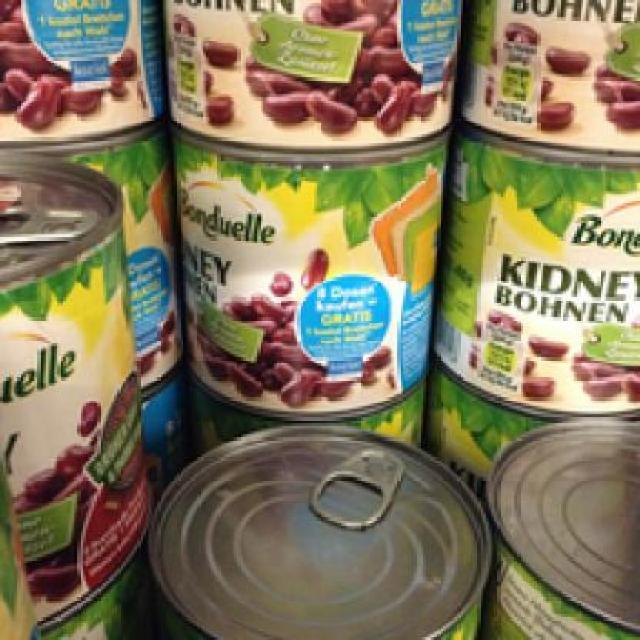Beans: (168, 120, 438, 420), (0, 144, 132, 632), (442, 122, 638, 418)
